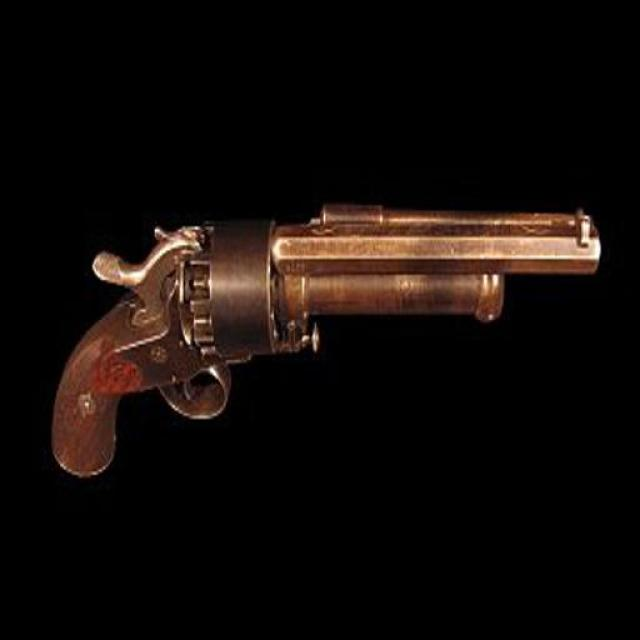pistol: (51, 181, 603, 482)
